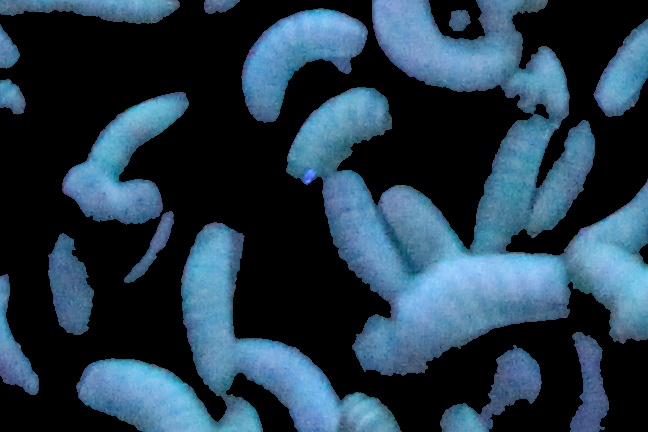larvae: (309, 163, 417, 323), (234, 1, 363, 130), (394, 248, 576, 332), (171, 221, 252, 407), (359, 1, 520, 92), (267, 76, 400, 174), (77, 86, 197, 188), (238, 329, 345, 431), (472, 101, 542, 253), (73, 357, 201, 432), (566, 233, 648, 344), (1, 266, 52, 413), (377, 183, 468, 265), (587, 7, 648, 122), (541, 119, 602, 230)
